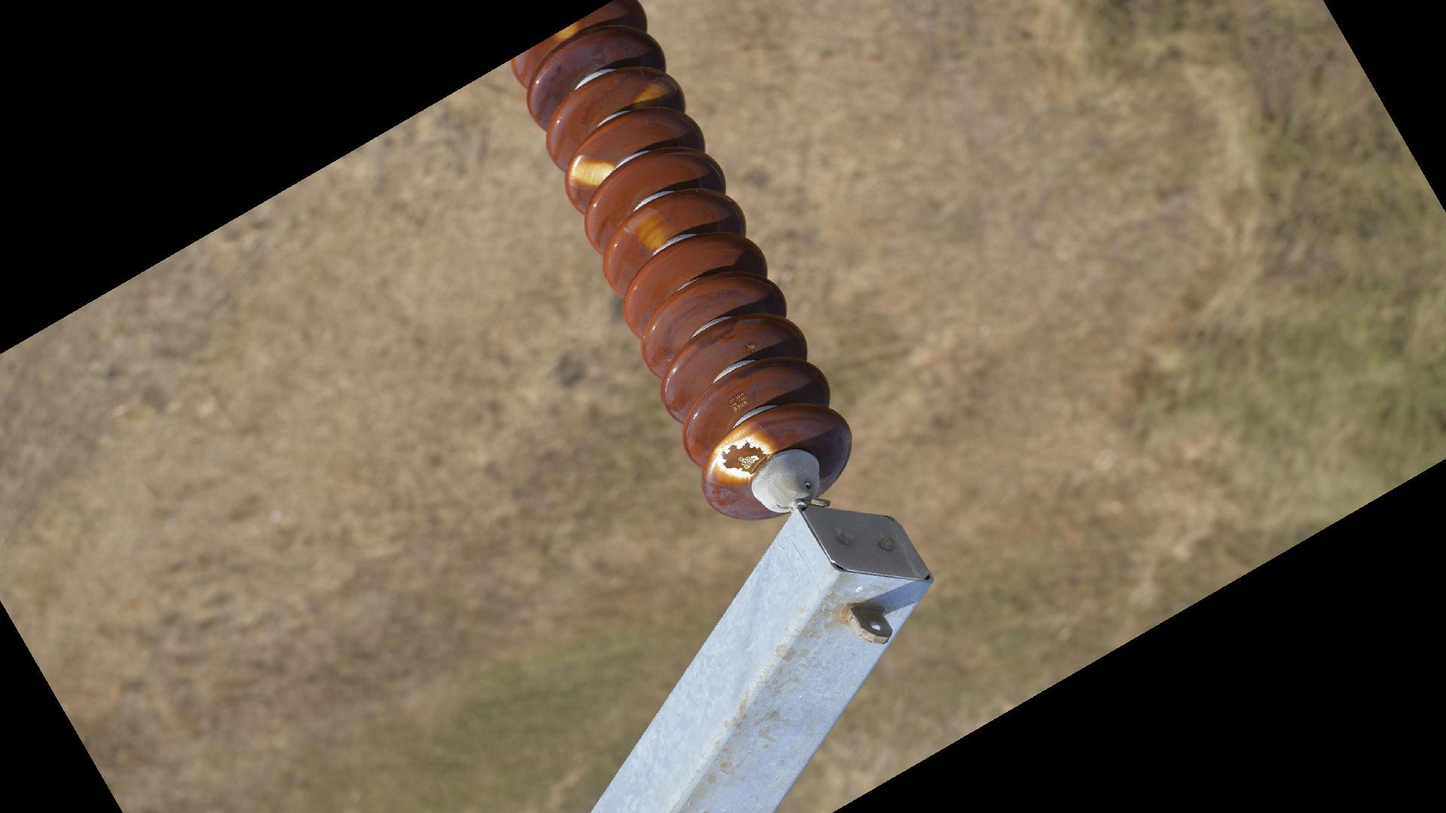insulator: (502, 1, 858, 528)
insulator_flashover: (710, 417, 780, 482), (626, 205, 673, 251), (566, 153, 618, 190), (630, 72, 679, 111)
